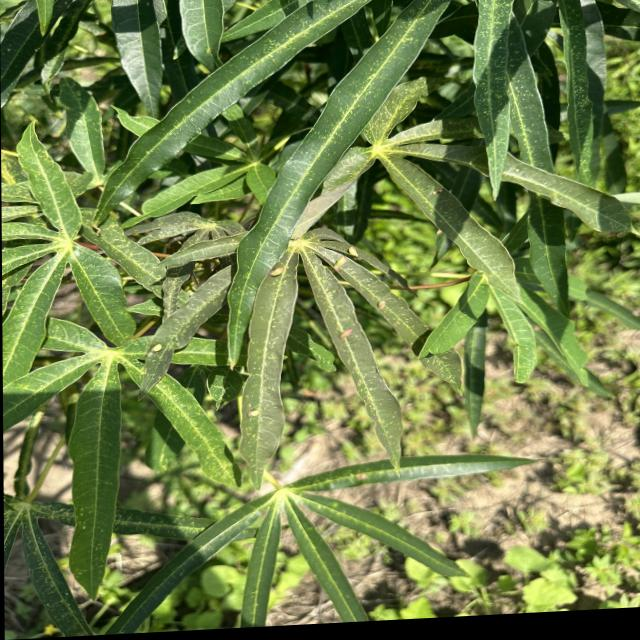Mosca: (257, 249, 299, 296), (133, 332, 169, 379), (321, 242, 357, 277), (327, 323, 365, 353), (370, 292, 396, 319), (236, 402, 268, 423)
